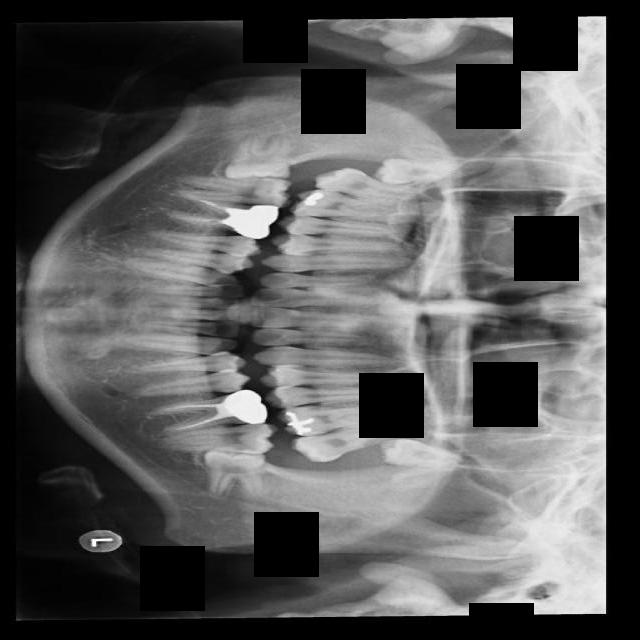3M ESPE Implant: (371, 156, 468, 184)
52: (223, 203, 281, 241), (287, 188, 347, 218), (218, 389, 266, 425), (275, 406, 331, 436)
73: (160, 186, 241, 235), (154, 394, 239, 435), (42, 600, 52, 604)
BioHorizons Implant: (287, 418, 411, 468)
BioLife Implant: (376, 436, 476, 470)
Biomet 3i Implant: (201, 445, 266, 499)
Blue Sky Bio Implant: (157, 423, 278, 456)
Caries: (310, 159, 431, 214)
Implant: (175, 175, 293, 209)
Keystone Dental Implant: (223, 133, 292, 183)
